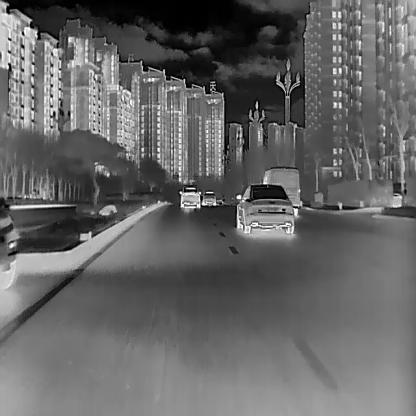car: (235, 181, 295, 234), (263, 164, 301, 214), (176, 184, 202, 209), (201, 188, 216, 204)
